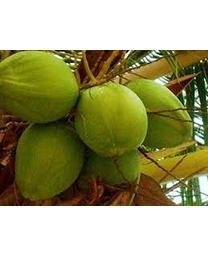coconut: (15, 114, 86, 202), (74, 81, 146, 157), (1, 51, 78, 121), (121, 80, 194, 153)
